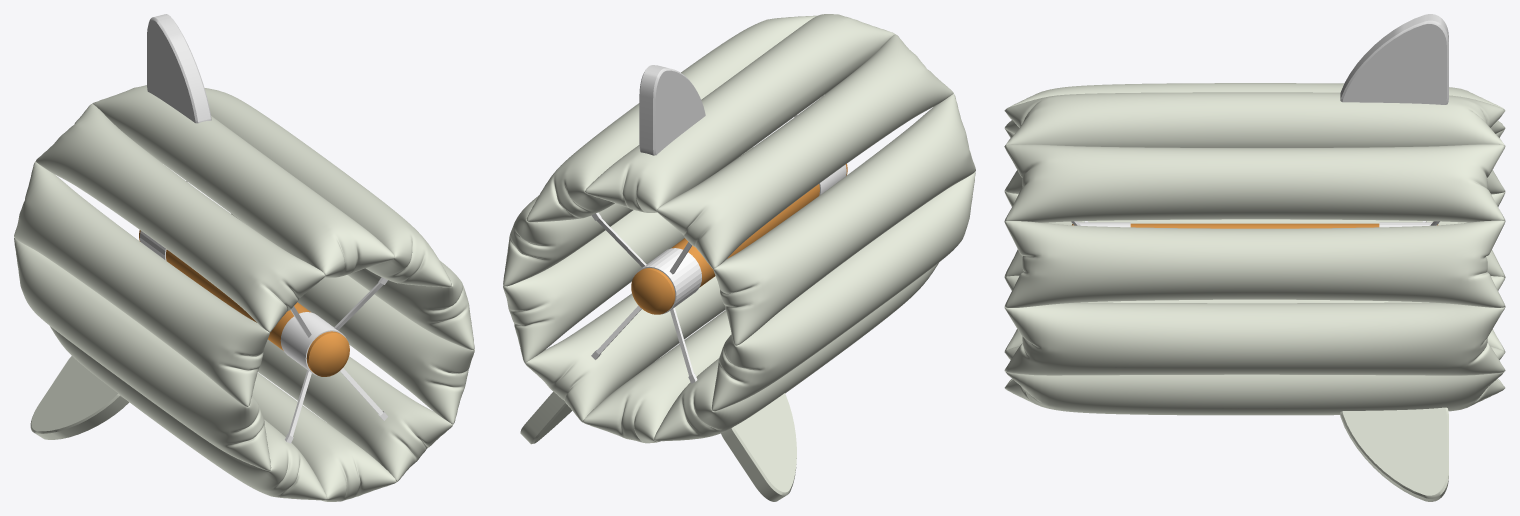
Rendered from Ballon_éolienne.fbx.
3 views of the same model, side by side, from view 1: azimuth 30°, elevation 25°; view 2: azimuth 150°, elevation 25°; view 3: azimuth 270°, elevation 25° (orthographic). The views are drawn at different scales.
Parts seen in each view (by area): view 1: Plane, Cube.010, Cube.008, Cylinder, Cylinder.001; view 2: Plane, Cube.010, Cube.008, Cylinder, Cylinder.002, Cube.009; view 3: Plane, Cube.009, Cube.008, Cylinder.
Boxes of the visible parts, x1=… form: Plane: x1=14, y1=85, x2=474, y2=501; Cube.010: x1=30, y1=356, x2=129, y2=439; Cube.008: x1=147, y1=14, x2=211, y2=123; Cylinder: x1=139, y1=230, x2=349, y2=376; Cylinder.001: x1=280, y1=312, x2=346, y2=376; Plane: x1=503, y1=14, x2=975, y2=443; Cube.010: x1=721, y1=393, x2=796, y2=501; Cube.008: x1=639, y1=65, x2=705, y2=155; Cylinder: x1=631, y1=164, x2=847, y2=314; Cylinder.002: x1=634, y1=248, x2=701, y2=314; Cube.009: x1=520, y1=391, x2=572, y2=444; Plane: x1=1004, y1=83, x2=1505, y2=415; Cube.009: x1=1340, y1=407, x2=1448, y2=501; Cube.008: x1=1340, y1=14, x2=1448, y2=104; Cylinder: x1=1072, y1=223, x2=1437, y2=228.
Bounding box in the file's own units: 1278 × 1828 × 1965.
